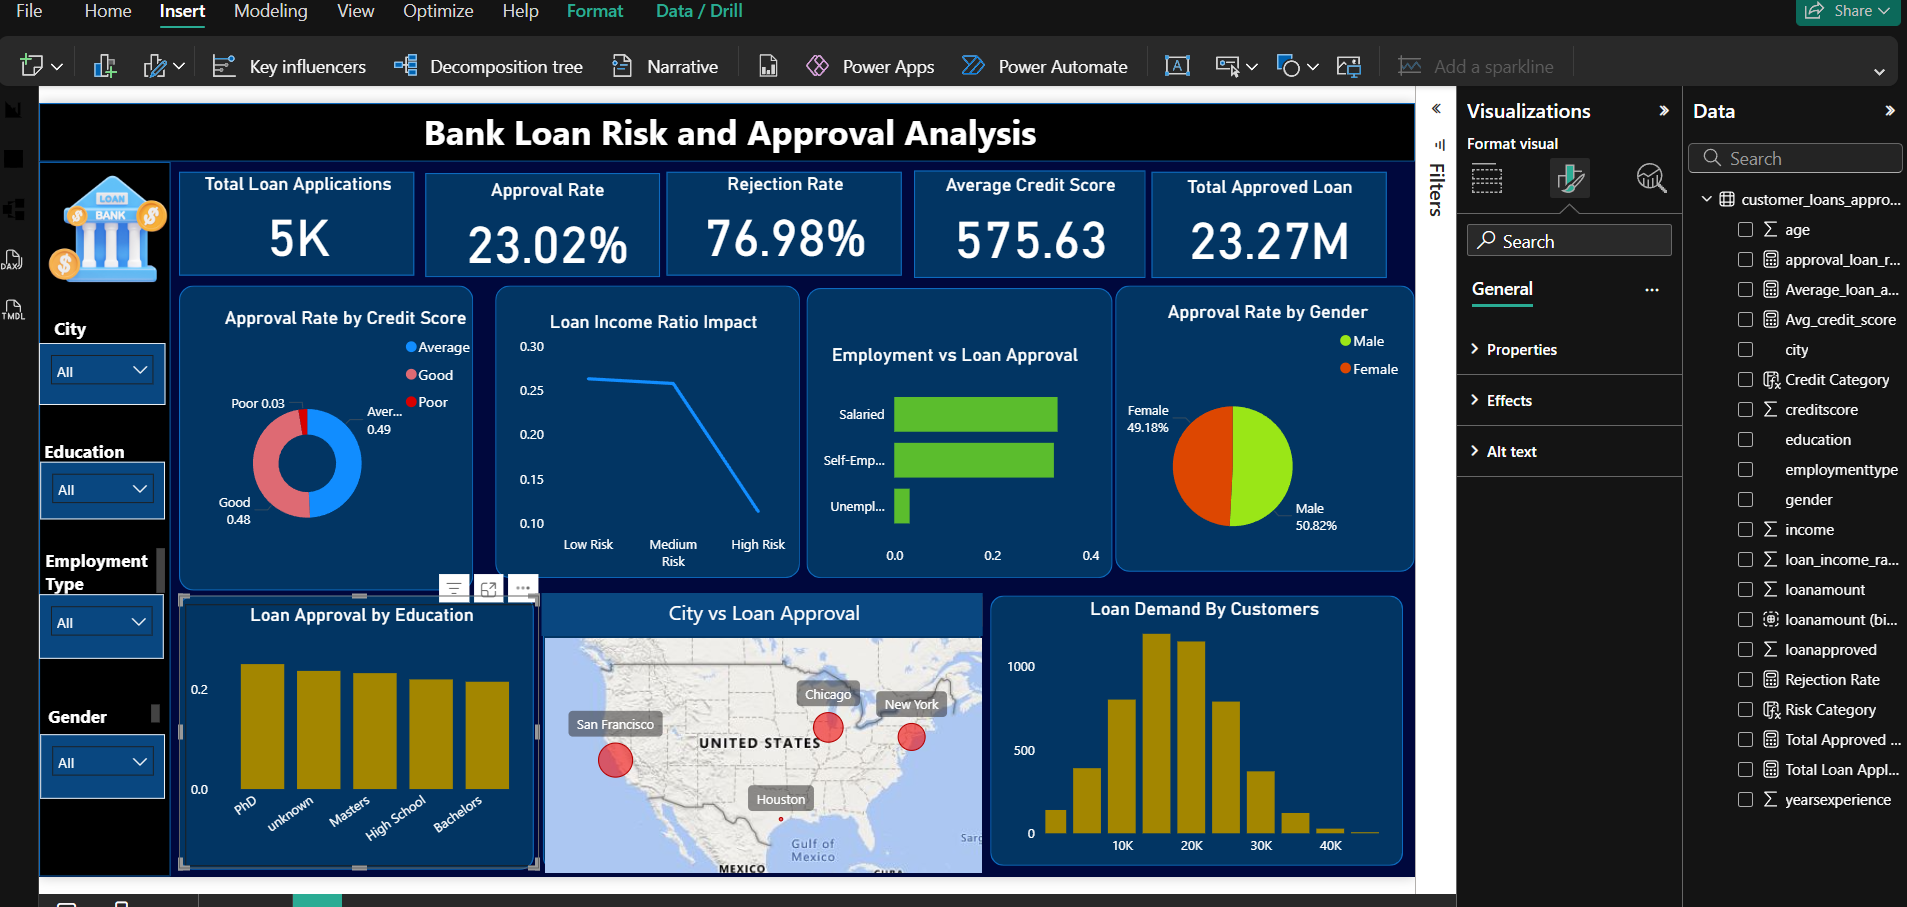

The dashboard page shown, as its layout file describes it:
{"tool":"powerbi","page":{"name":"Page 1","canvas":[1280,720],"ordinal":0},"visuals":[{"type":"shape","box":[0,55,122.5,665],"z":0},{"type":"shape","box":[714.3,171.8,284.7,269.9],"z":0,"group":"g14"},{"type":"group","id":"g1","title":"Group 3","box":[466.2,455,416,261.4],"z":0,"group":"g15"},{"type":"shape","box":[0,0,1280.2,54.7],"z":1000},{"type":"shape","box":[813.5,62.6,215.6,100],"z":1000,"group":"g4"},{"type":"shape","title":"Loan Approval Rate","box":[130.1,63.8,218.9,96.7],"z":1000,"group":"g5"},{"type":"shape","title":"Loan Approval Rate","box":[584.1,63.8,218.9,96.7],"z":1000,"group":"g6"},{"type":"shape","box":[1034.4,63.8,218.9,98.9],"z":1000,"group":"g7"},{"type":"shape","title":"Loan Approval Rate","box":[359.5,65,218.4,96.9],"z":1000,"group":"g8"},{"type":"textbox","box":[467.1,456.2,410,40],"z":1000,"group":"g15"},{"type":"card","title":"Total Loan Applications","fields":{"Values":["customer_loans_approval.Total Loan Applications"]},"box":[138.6,65.5,205.6,89.9],"z":1500,"group":"g5"},{"type":"card","title":"Rejection Rate","fields":{"Values":["customer_loans_approval.Rejection Rate"]},"box":[592.6,65.5,205.6,89.9],"z":1500,"group":"g6"},{"type":"card","title":"Average Credit Score","fields":{"Values":["customer_loans_approval.Avg_credit_score"]},"box":[819.2,65.7,205.7,92],"z":1500,"group":"g4"},{"type":"card","title":"Total Approved Loan","fields":{"Values":["customer_loans_approval.Total Approved Loan"]},"box":[1040.2,66.9,208.9,91],"z":1500,"group":"g7"},{"type":"card","title":"Approval Rate","fields":{"Values":["customer_loans_approval.approval_loan_rate"]},"box":[370.7,71.4,204.9,90.8],"z":1500,"group":"g8"},{"type":"group","id":"g2","title":"Group 1","box":[359.5,65,218.4,96.9],"z":2000},{"type":"textbox","box":[105.6,0,1174.4,54.4],"z":3000},{"type":"group","id":"g3","title":"Group 1","box":[1034.4,63.8,218.4,99.4],"z":4000},{"type":"group","id":"g4","title":"Group 2","box":[813.5,62.6,208.6,99.4],"z":4001,"group":"g9"},{"type":"group","id":"g5","title":"Group 2","box":[130.1,63.8,218.9,96.7],"z":4001,"group":"g10"},{"type":"group","id":"g6","title":"Group 2","box":[584.1,63.8,218.4,96.9],"z":4001,"group":"g17"},{"type":"group","id":"g7","title":"Group 2","box":[1034.4,63.8,218.4,99.4],"z":4001,"group":"g3"},{"type":"group","id":"g8","title":"Group 2","box":[359.5,65,218.4,97.2],"z":4001,"group":"g2"},{"type":"group","id":"g9","title":"Group 1","box":[813.5,62.6,208.6,99.4],"z":5000},{"type":"group","id":"g10","title":"Group 1","box":[130.1,63.8,218.4,96.9],"z":6000},{"type":"shape","box":[424.5,169.3,283.5,272.2],"z":6000,"group":"g11"},{"type":"shape","box":[1001.2,170,278.5,266.3],"z":6000,"group":"g16"},{"type":"shape","box":[130,169.4,273.8,283.8],"z":6500,"group":"g12"},{"type":"shape","box":[469,461.7,407.3,252.2],"z":6500,"group":"g1"},{"type":"group","id":"g11","title":"Group 3","box":[424.5,169.3,285.9,272.4],"z":7000},{"type":"shape","box":[130.1,457.7,330,255.2],"z":7000,"group":"g13"},{"type":"shape","box":[884.4,458.1,384.1,251.5],"z":7000,"group":"g18"},{"type":"pieChart","title":"Approval Rate by Gender","fields":{"Y":["Avg(customer_loans_approval.loanapproved)"],"Category":["customer_loans_approval.gender"]},"box":[1007,184.3,272.4,289.6],"z":7500,"group":"g16"},{"type":"donutChart","title":"Approval Rate by Credit Score","fields":{"Category":["customer_loans_approval.Credit Category"],"Y":["Avg(customer_loans_approval.loanapproved)"]},"box":[155,189.4,261.2,272.5],"z":7500,"group":"g12"},{"type":"lineChart","title":"Loan Income Ratio Impact","fields":{"Category":["customer_loans_approval.Risk Category"],"Y":["Avg(customer_loans_approval.loanapproved)"]},"box":[434.3,192.9,276.1,249.1],"z":7500,"group":"g11"},{"type":"map","title":"Loan Income Ratio Impact","fields":{"Category":["customer_loans_approval.city"],"Size":["Avg(customer_loans_approval.loanapproved)"]},"box":[466.2,455,416,261.4],"z":7500,"group":"g1"},{"type":"columnChart","title":"Loan Demand By Customers","fields":{"Category":["customer_loans_approval.loanamount (bins)"],"Y":["customer_loans_approval.Total Loan Applications"]},"box":[895.4,460.7,377.9,249.1],"z":7500,"group":"g18"},{"type":"columnChart","title":"Loan Approval by Education","fields":{"Category":["customer_loans_approval.education"],"Y":["customer_loans_approval.Average_loan_approved"]},"box":[136.3,465.6,328.8,244.1],"z":7500,"group":"g13"},{"type":"group","id":"g12","title":"Group 3","box":[0,169.4,416.2,292.5],"z":8000},{"type":"clusteredBarChart","title":"Employment vs Loan Approval","fields":{"Category":["customer_loans_approval.employmenttype"],"Y":["customer_loans_approval.Average_loan_approved"]},"box":[712.9,223.6,278.5,214.7],"z":8000,"group":"g14"},{"type":"group","id":"g13","title":"Group 3","box":[130.1,457.7,335,255.2],"z":9000},{"type":"group","id":"g14","title":"Group 4","box":[712.9,171.8,285.9,269.9],"z":10000},{"type":"group","id":"g15","title":"Group 5","box":[466.2,455,416,261.4],"z":11000},{"type":"group","id":"g16","title":"Group 3","box":[1001.2,170,278.5,303.8],"z":12000},{"type":"group","id":"g17","title":"Group 1","box":[584.1,63.8,218.4,96.9],"z":13000},{"type":"group","id":"g18","title":"Group 3","box":[884.4,458.1,389,251.7],"z":14000},{"type":"slicer","fields":{"Values":["customer_loans_approval.city"]},"box":[0,223.8,117.5,57.5],"z":15000},{"type":"slicer","fields":{"Values":["customer_loans_approval.education"]},"box":[1.2,333.8,116.2,53.8],"z":16000},{"type":"image","box":[0,28.8,130,183.8],"z":17000},{"type":"textbox","box":[0,308.1,112.9,51.5],"z":17003,"group":"g12"},{"type":"slicer","fields":{"Values":["customer_loans_approval.employmenttype"]},"box":[0,457.5,116.2,60],"z":18000},{"type":"textbox","box":[8.8,192.5,105,40],"z":19000},{"type":"textbox","box":[1.2,408.8,121.2,52.5],"z":20000},{"type":"slicer","fields":{"Values":["customer_loans_approval.gender"]},"box":[1.2,587.5,116.2,60],"z":21000},{"type":"textbox","box":[3.8,555,113.8,28.8],"z":22000}]}

Visuals, with their boxes on the page's 1280x720 design canvas (x1, y1, x2, y2). These are canvas units, not pixel positions in the 1907x907 screenshot, which may show the page scaled, cropped or inside an application window:
shape: [x1=0, y1=55, x2=122, y2=720]
shape: [x1=714, y1=172, x2=999, y2=442]
"Group 3" group: [x1=466, y1=455, x2=882, y2=716]
shape: [x1=0, y1=0, x2=1280, y2=55]
shape: [x1=814, y1=63, x2=1029, y2=163]
"Loan Approval Rate" shape: [x1=130, y1=64, x2=349, y2=160]
"Loan Approval Rate" shape: [x1=584, y1=64, x2=803, y2=160]
shape: [x1=1034, y1=64, x2=1253, y2=163]
"Loan Approval Rate" shape: [x1=360, y1=65, x2=578, y2=162]
textbox: [x1=467, y1=456, x2=877, y2=496]
"Total Loan Applications" card: [x1=139, y1=66, x2=344, y2=155]
"Rejection Rate" card: [x1=593, y1=66, x2=798, y2=155]
"Average Credit Score" card: [x1=819, y1=66, x2=1025, y2=158]
"Total Approved Loan" card: [x1=1040, y1=67, x2=1249, y2=158]
"Approval Rate" card: [x1=371, y1=71, x2=576, y2=162]
"Group 1" group: [x1=360, y1=65, x2=578, y2=162]
textbox: [x1=106, y1=0, x2=1280, y2=54]
"Group 1" group: [x1=1034, y1=64, x2=1253, y2=163]
"Group 2" group: [x1=814, y1=63, x2=1022, y2=162]
"Group 2" group: [x1=130, y1=64, x2=349, y2=160]
"Group 2" group: [x1=584, y1=64, x2=802, y2=161]
"Group 2" group: [x1=1034, y1=64, x2=1253, y2=163]
"Group 2" group: [x1=360, y1=65, x2=578, y2=162]
"Group 1" group: [x1=814, y1=63, x2=1022, y2=162]
"Group 1" group: [x1=130, y1=64, x2=348, y2=161]
shape: [x1=424, y1=169, x2=708, y2=442]
shape: [x1=1001, y1=170, x2=1280, y2=436]
shape: [x1=130, y1=169, x2=404, y2=453]
shape: [x1=469, y1=462, x2=876, y2=714]
"Group 3" group: [x1=424, y1=169, x2=710, y2=442]
shape: [x1=130, y1=458, x2=460, y2=713]
shape: [x1=884, y1=458, x2=1268, y2=710]
"Approval Rate by Gender" pieChart: [x1=1007, y1=184, x2=1279, y2=474]
"Approval Rate by Credit Score" donutChart: [x1=155, y1=189, x2=416, y2=462]
"Loan Income Ratio Impact" lineChart: [x1=434, y1=193, x2=710, y2=442]
"Loan Income Ratio Impact" map: [x1=466, y1=455, x2=882, y2=716]
"Loan Demand By Customers" columnChart: [x1=895, y1=461, x2=1273, y2=710]
"Loan Approval by Education" columnChart: [x1=136, y1=466, x2=465, y2=710]
"Group 3" group: [x1=0, y1=169, x2=416, y2=462]
"Employment vs Loan Approval" clusteredBarChart: [x1=713, y1=224, x2=991, y2=438]
"Group 3" group: [x1=130, y1=458, x2=465, y2=713]
"Group 4" group: [x1=713, y1=172, x2=999, y2=442]
"Group 5" group: [x1=466, y1=455, x2=882, y2=716]
"Group 3" group: [x1=1001, y1=170, x2=1280, y2=474]
"Group 1" group: [x1=584, y1=64, x2=802, y2=161]
"Group 3" group: [x1=884, y1=458, x2=1273, y2=710]
slicer - customer_loans_approval.city: [x1=0, y1=224, x2=118, y2=281]
slicer - customer_loans_approval.education: [x1=1, y1=334, x2=117, y2=388]
image: [x1=0, y1=29, x2=130, y2=213]
textbox: [x1=0, y1=308, x2=113, y2=360]
slicer - customer_loans_approval.employmenttype: [x1=0, y1=458, x2=116, y2=518]
textbox: [x1=9, y1=192, x2=114, y2=232]
textbox: [x1=1, y1=409, x2=122, y2=461]
slicer - customer_loans_approval.gender: [x1=1, y1=588, x2=117, y2=648]
textbox: [x1=4, y1=555, x2=118, y2=584]
